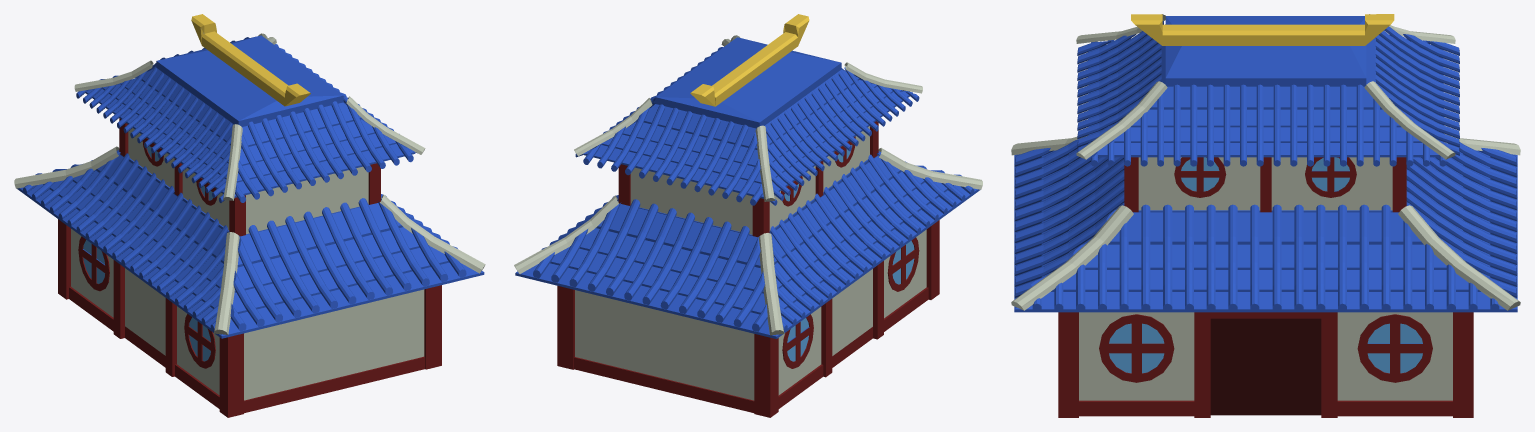
File: Teatro.glb
3 views of the same model, side by side, from view 1: azimuth 30°, elevation 25°; view 2: azimuth 150°, elevation 25°; view 3: azimuth 270°, elevation 25° (orthographic). The views are drawn at different scales.
Visible parts, largest first — view 1: teatro kimono, Ventanas; view 2: teatro kimono, Ventanas; view 3: teatro kimono, Ventanas.
Boxes of the visible parts, box(x1,y1,x2,y2) form: teatro kimono: box(14, 14, 485, 417); Ventanas: box(83, 146, 212, 361); teatro kimono: box(514, 14, 982, 417); Ventanas: box(784, 145, 914, 361); teatro kimono: box(1011, 14, 1520, 417); Ventanas: box(1109, 157, 1422, 373).
Size of the model in its own units: 5.76 by 5.6 by 7.68.
